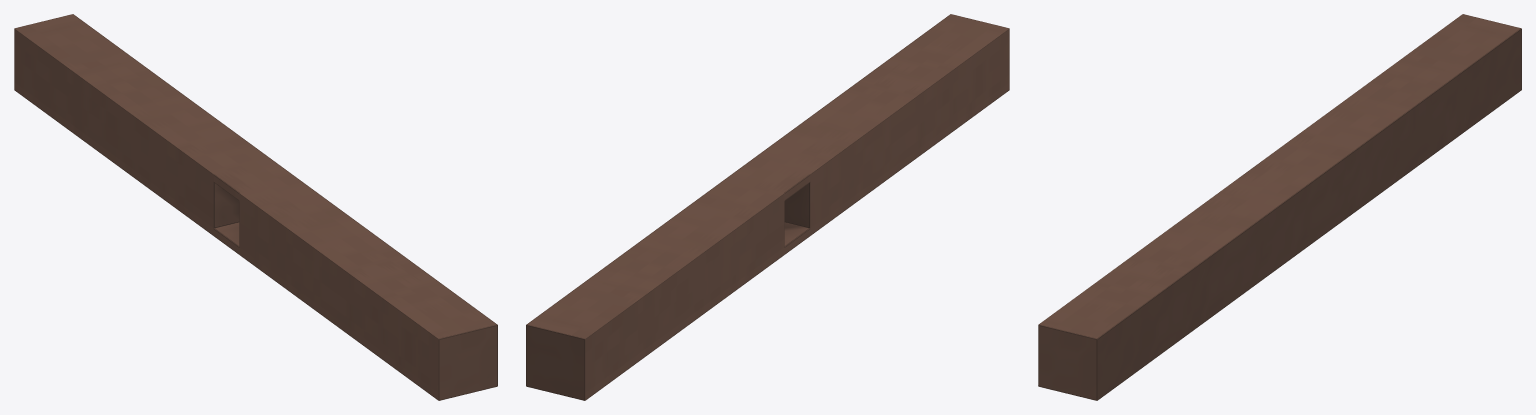
3 views of the same model, side by side, from view 1: azimuth 30°, elevation 25°; view 2: azimuth 150°, elevation 25°; view 3: azimuth 330°, elevation 25° (orthographic).
Visible parts, largest first — view 1: part-a; view 2: part-a; view 3: part-a.
Boxes of the visible parts, x1,y1,x2,y2 form: part-a: (14, 14, 497, 400); part-a: (526, 14, 1009, 400); part-a: (1038, 14, 1521, 400).
Bounding box in the file's own units: 0.1208 × 0.1208 × 1.5.
